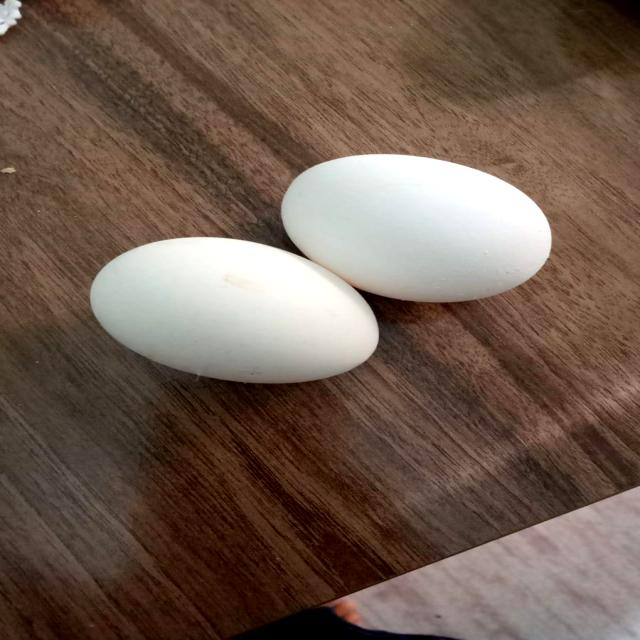egg: (66, 215, 396, 392), (270, 144, 569, 309)
